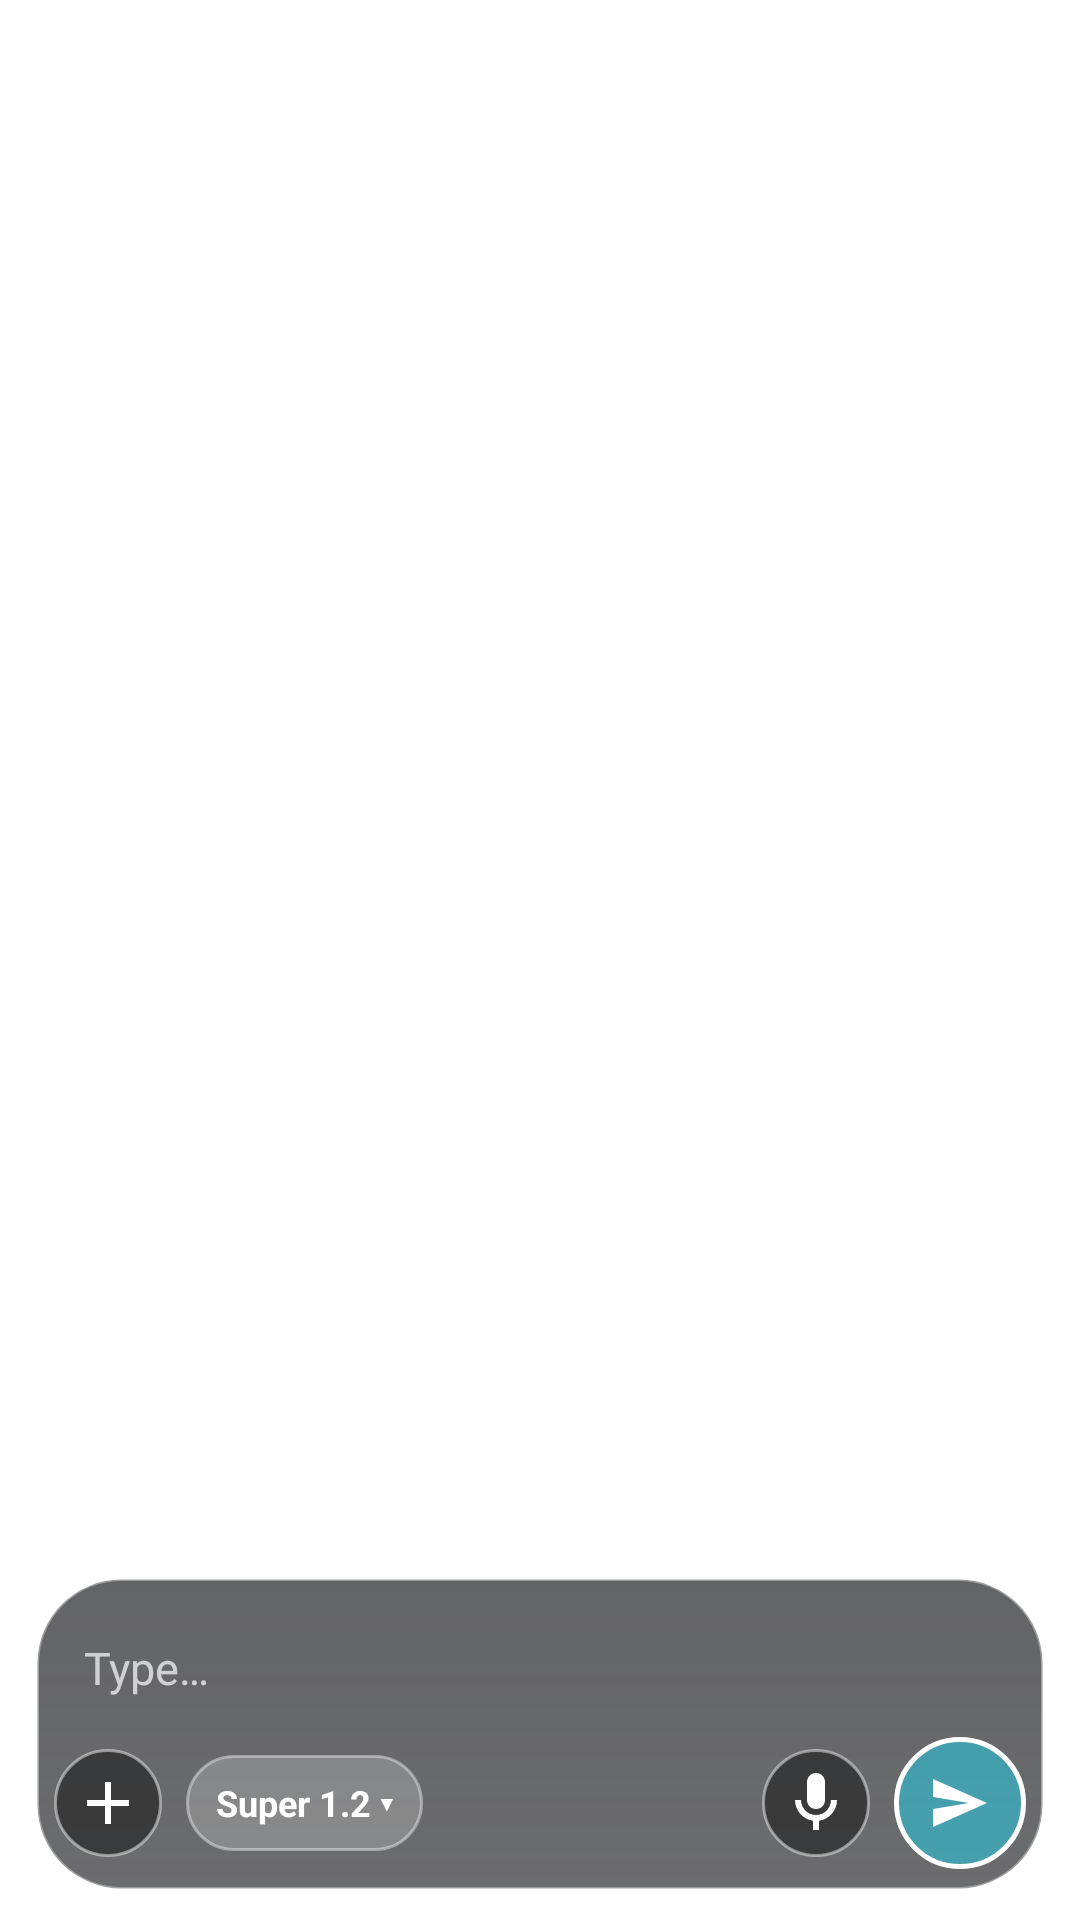

Point at icon controls on the screen. Image size 1080*1920, points as point (x, y).
Attach image: point (108, 1803)
Send: point (960, 1803)
Speak: point (816, 1803)
